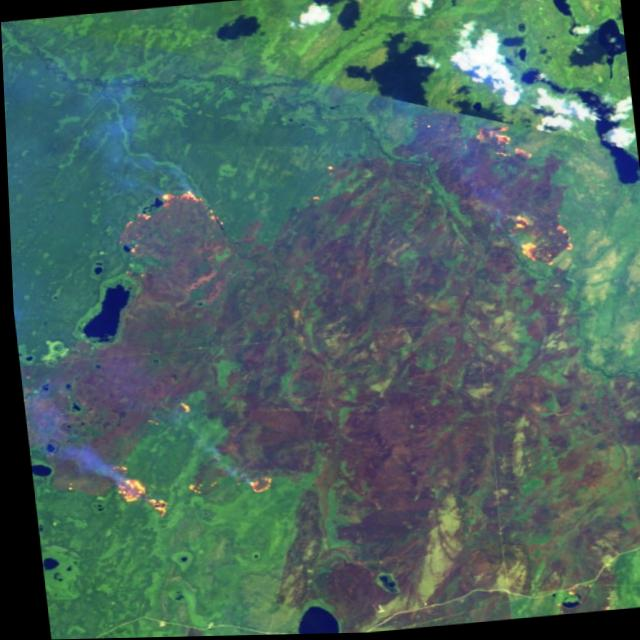fire: (83, 181, 235, 268), (170, 451, 279, 514), (489, 204, 578, 267), (89, 453, 165, 523), (444, 115, 537, 162), (130, 393, 202, 435)
